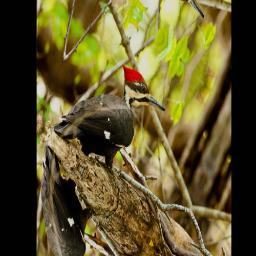Woodpecker: (52, 27, 169, 208)
